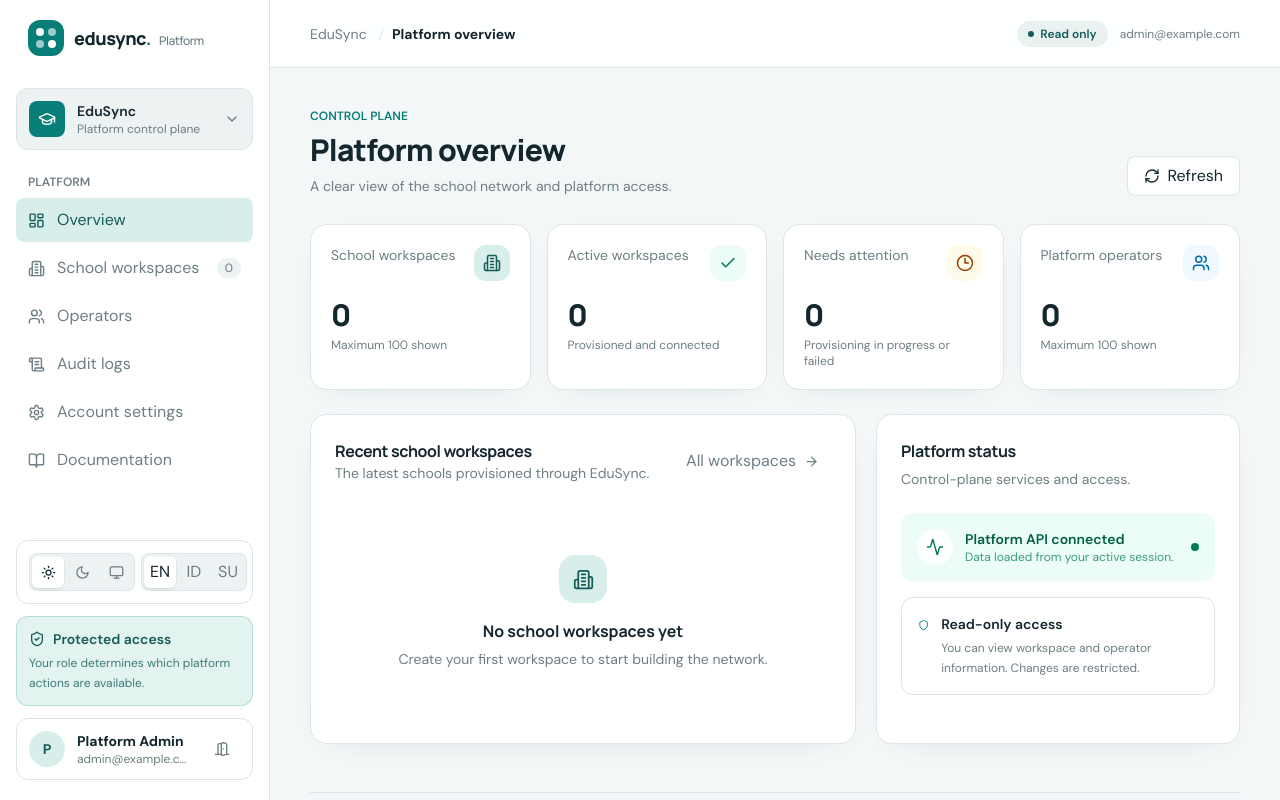
Test case: Platform app authentication and permissions › hides admin-only controls for a read-only operator
Expected: the text "Read-only access" is shown, top-left (941, 615), bottom-right (1063, 633)
Click the button "School workspaces 0". click: (134,268)
box: top-left (16, 246), bottom-right (253, 290)
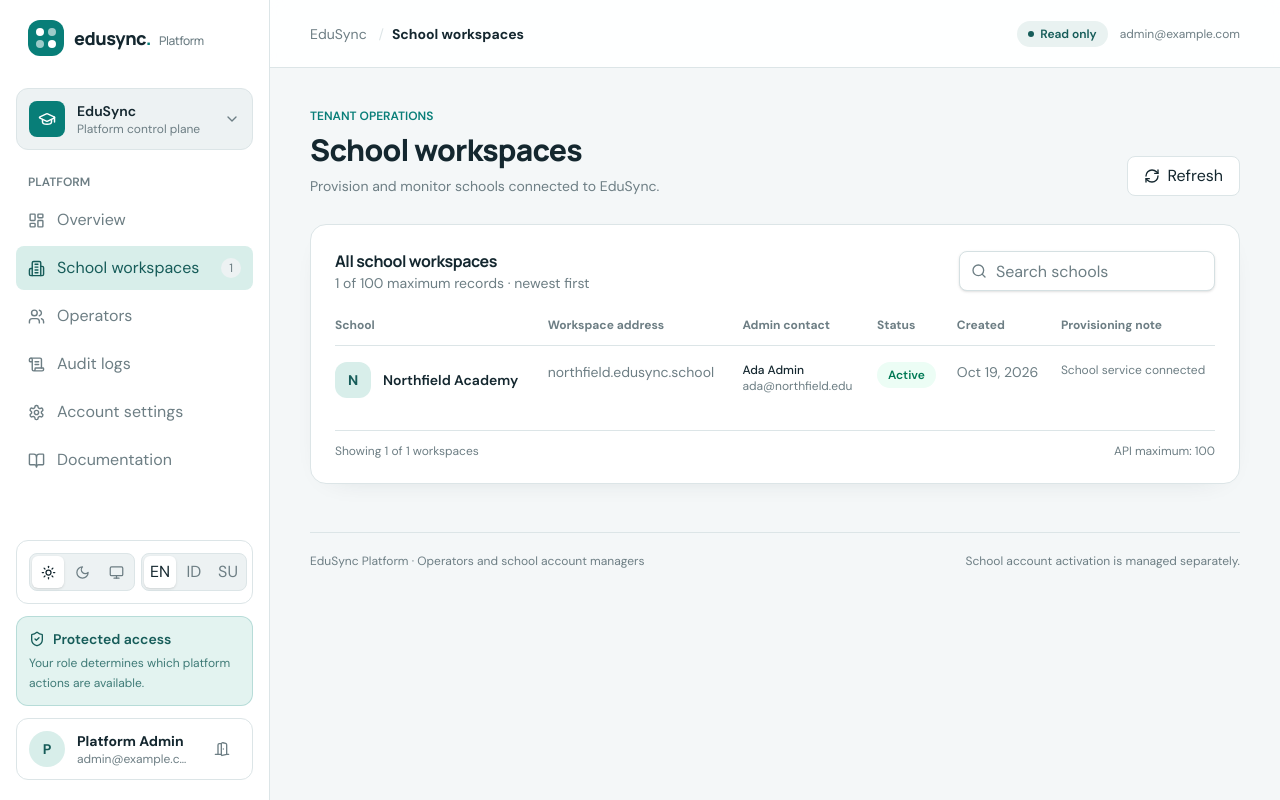
Result: the heading "All school workspaces" is shown at top-left (335, 250), bottom-right (497, 272)
